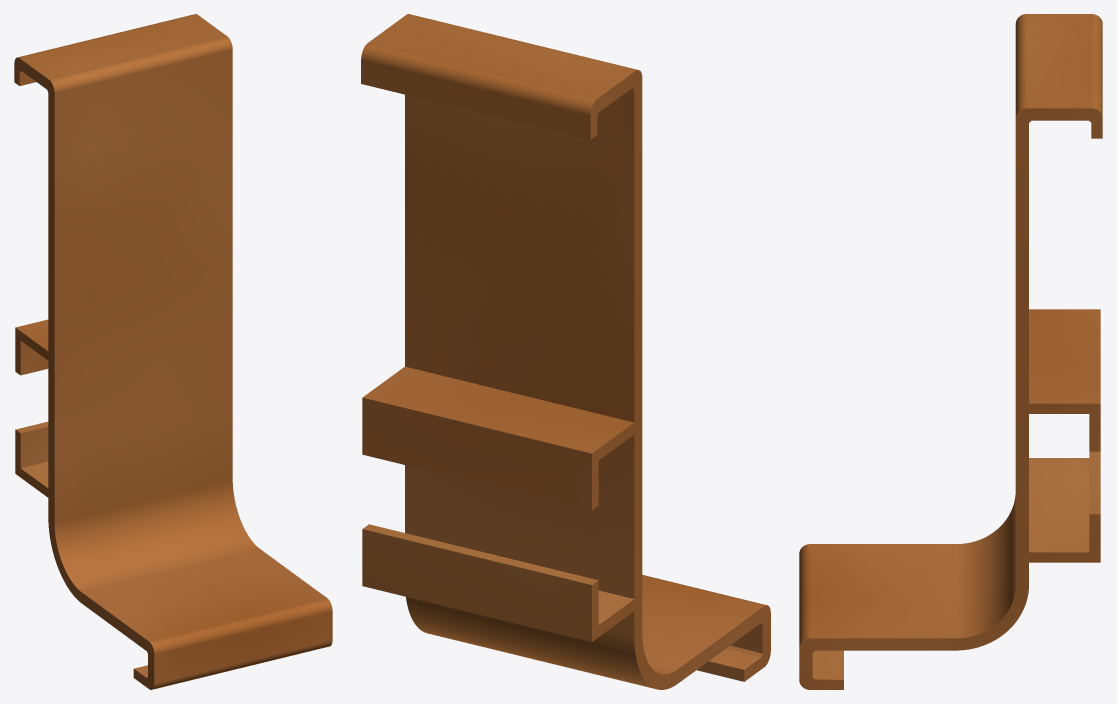
File: gola_l_1791743618336.glb
The picture shows the model from 3 angles, left to right: view 1: azimuth 30°, elevation 25°; view 2: azimuth 150°, elevation 25°; view 3: azimuth 270°, elevation 25°; orthographic projection. The views are drawn at different scales.
Visible parts, largest first — view 1: Gola L; view 2: Gola L; view 3: Gola L.
Part boxes in pixels (x1,y1,x2,y2): Gola L: (14, 14, 332, 689); Gola L: (361, 14, 770, 689); Gola L: (799, 14, 1102, 689).
Size of the model in its own units: 0.02 by 0.0575 by 0.0272.
Materials: 1 (1 with a texture image).
